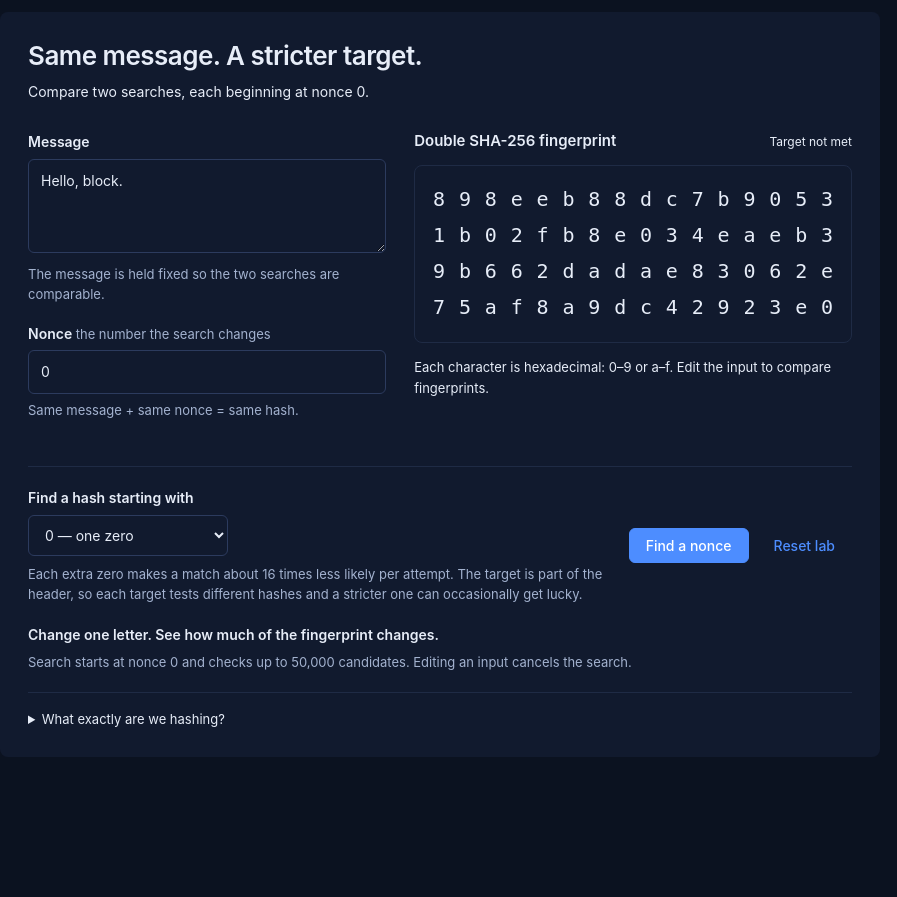
Test case: work comparison accepts completed searches only › rejects a late found result after stop
Click the button "Find a nonce".
click(689, 546)  # box [629,528,748,563]
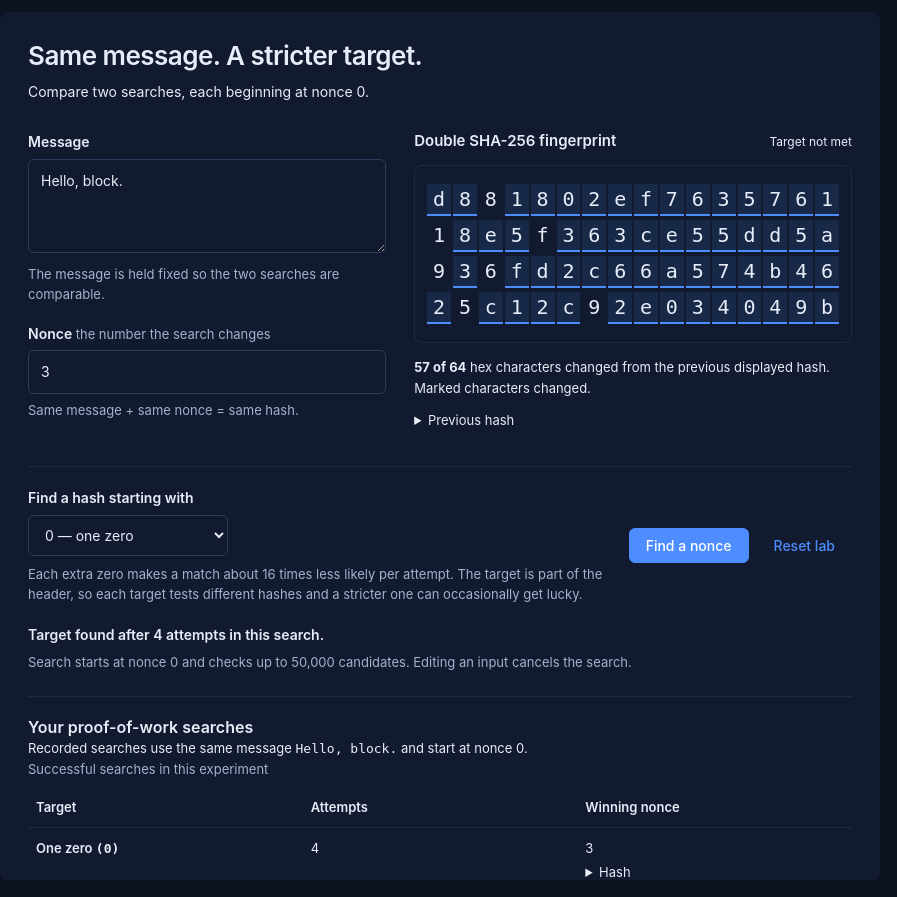
Even a valid-looking final trial is no evidence after cancellation.
Select "00 — two zeros" in the dropdown labelled "Find a hash starting with" at (128, 535), box [28,515,228,556]
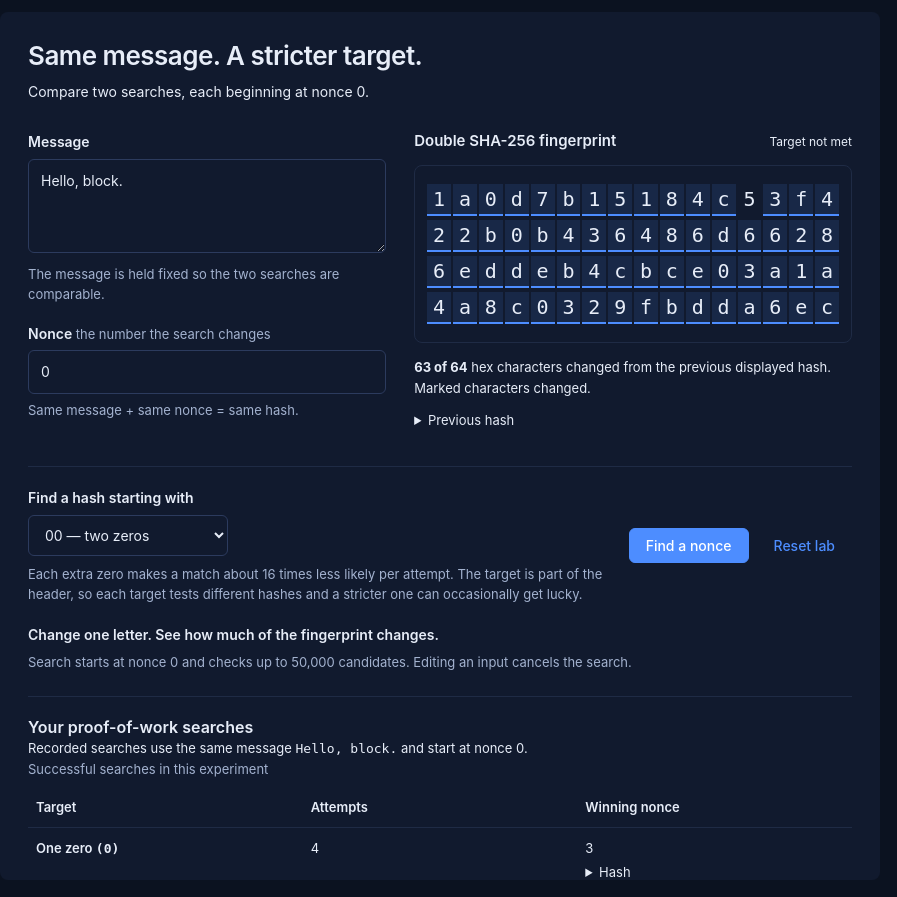
Click the button "Find a nonce".
click(689, 546)  # box [629,528,748,563]
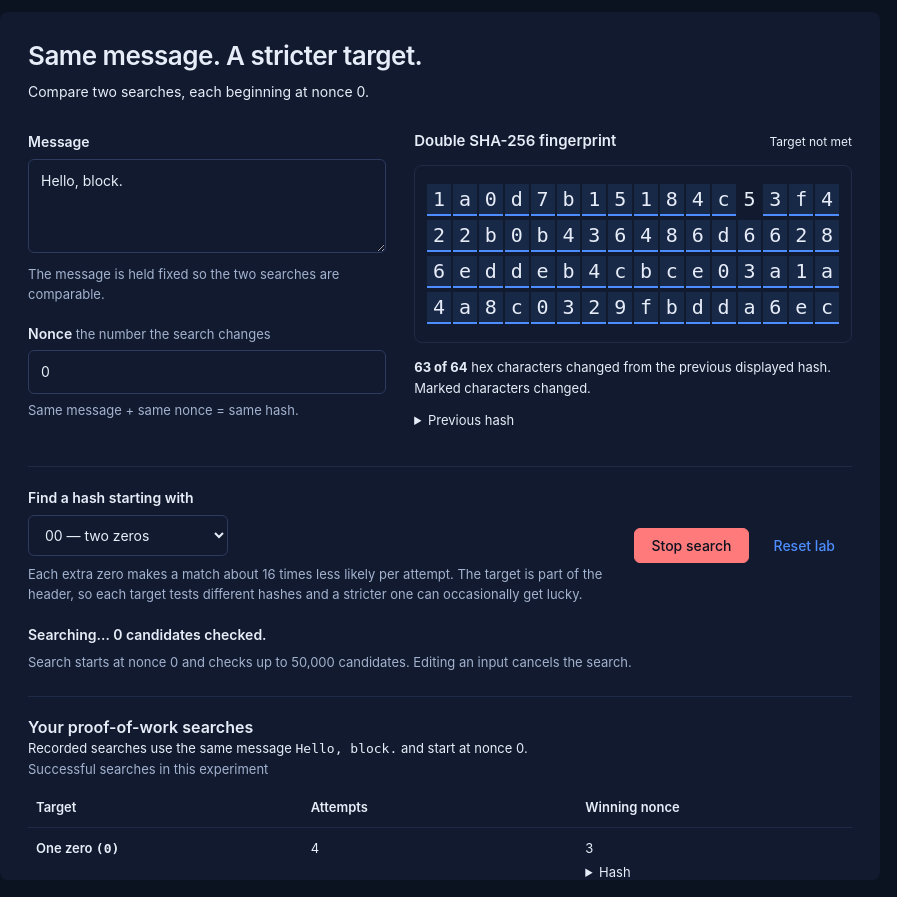
Click the button "Stop search".
click(692, 546)  # box [634,528,748,563]
(page scrolled)
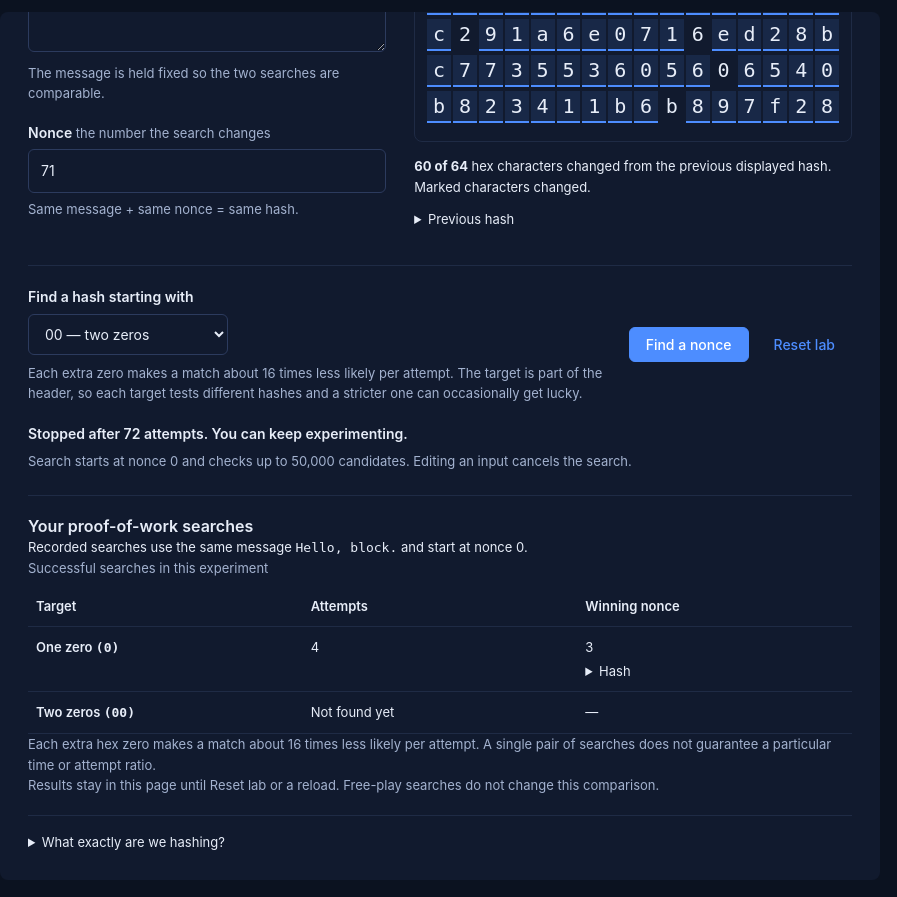
Expected: the row "Two zeros (00) Not found yet —" is shown, [28,692,852,734]
